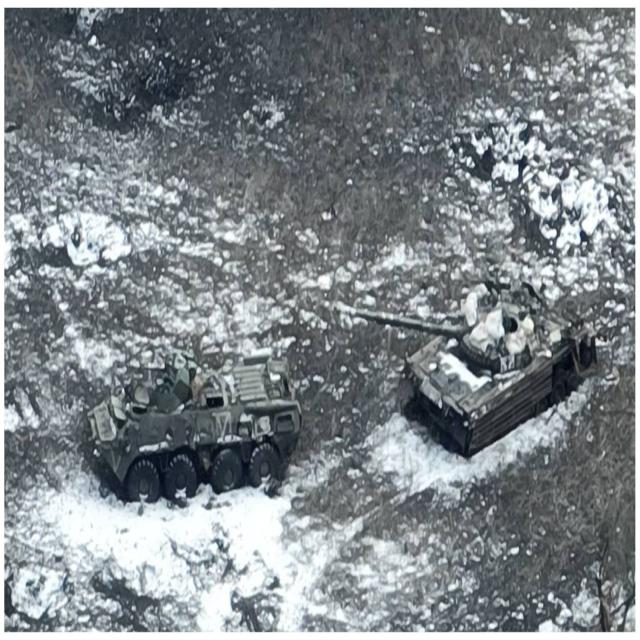APC: (87, 359, 301, 499)
MBT: (335, 293, 596, 454)
